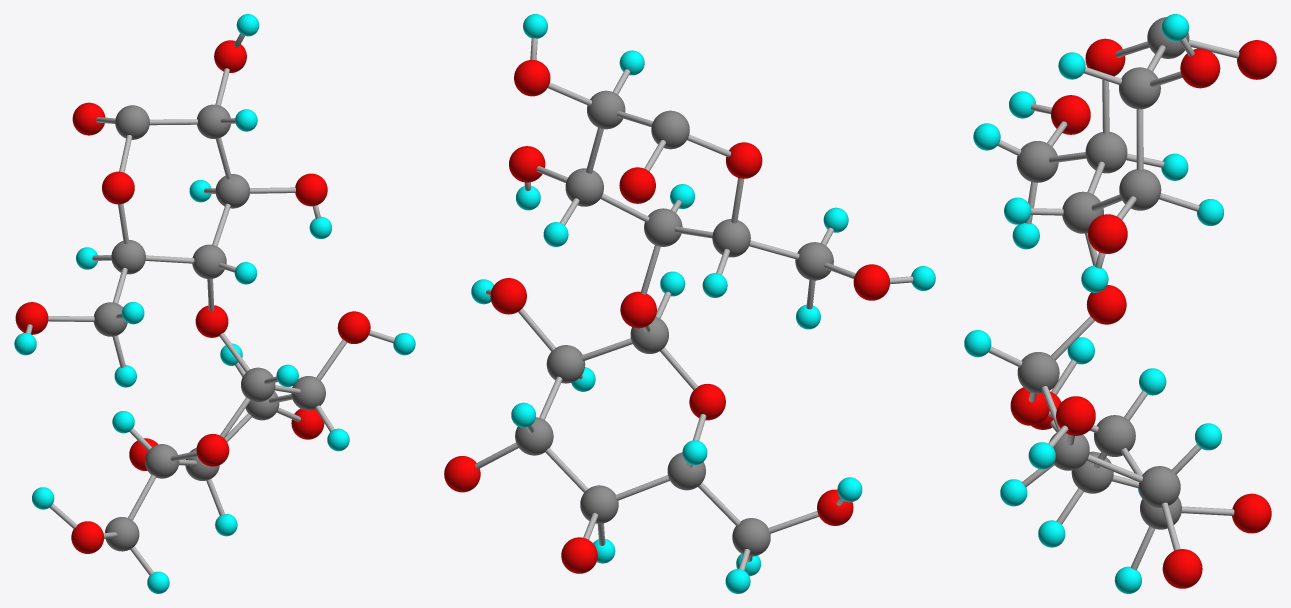
The model's file is α-maltose.glb.
3 renders of one model, left to right at view 1: azimuth 30°, elevation 25°; view 2: azimuth 150°, elevation 25°; view 3: azimuth 270°, elevation 25°, orthographic. The views are drawn at different scales.
Parts seen in each view (by area): view 1: CMAtom_15, CMAtom_17, CMAtom_18, CMAtom_14, CMAtom_19, CMAtom_10, CMAtom_16, CMAtom_11, CMAtom_0, CMAtom_1, CMAtom_36, CMAtom_40 (+9 smaller); view 2: CMAtom_11, CMAtom_15, CMAtom_0, CMAtom_17, CMAtom_18, CMAtom_19, CMAtom_1, CMAtom_16, CMAtom_13, CMAtom_35, CMAtom_33, CMAtom_37 (+11 smaller); view 3: CMAtom_12, CMAtom_10, CMAtom_14, CMAtom_16, CMAtom_1, CMAtom_19, CMAtom_17, CMAtom_39, CMAtom_34, CMAtom_37, CMAtom_35, CMAtom_38 (+30 smaller).
Boxes of the visible parts, x1,y1,x2,y2 form: CMAtom_15: (115, 105, 149, 139); CMAtom_17: (215, 174, 249, 208); CMAtom_18: (192, 244, 226, 279); CMAtom_14: (144, 444, 179, 478); CMAtom_19: (111, 240, 145, 274); CMAtom_10: (241, 367, 275, 402); CMAtom_16: (197, 104, 230, 138); CMAtom_11: (291, 376, 325, 410); CMAtom_0: (105, 517, 139, 551); CMAtom_1: (93, 302, 127, 336); CMAtom_36: (196, 434, 229, 466); CMAtom_40: (102, 171, 134, 204); CMAtom_11: (546, 345, 585, 383); CMAtom_15: (651, 110, 689, 149); CMAtom_0: (732, 518, 770, 556); CMAtom_17: (565, 168, 603, 206); CMAtom_18: (644, 208, 682, 246); CMAtom_19: (712, 219, 750, 257); CMAtom_1: (795, 242, 833, 280); CMAtom_16: (587, 90, 625, 129); CMAtom_13: (580, 485, 618, 523); CMAtom_35: (561, 537, 597, 573); CMAtom_33: (490, 278, 526, 314); CMAtom_37: (619, 167, 655, 203); CMAtom_12: (1138, 466, 1180, 507); CMAtom_10: (1017, 352, 1059, 393); CMAtom_14: (1094, 415, 1135, 456); CMAtom_16: (1119, 67, 1160, 109); CMAtom_1: (1016, 141, 1058, 182); CMAtom_19: (1085, 132, 1127, 173); CMAtom_17: (1119, 169, 1161, 210); CMAtom_39: (1088, 214, 1127, 253); CMAtom_34: (1162, 549, 1202, 588); CMAtom_37: (1237, 40, 1276, 79); CMAtom_35: (1232, 493, 1271, 533); CMAtom_38: (1180, 48, 1220, 88).
Bounding box in the file's own units: 8.35 × 9.95 × 4.59.
